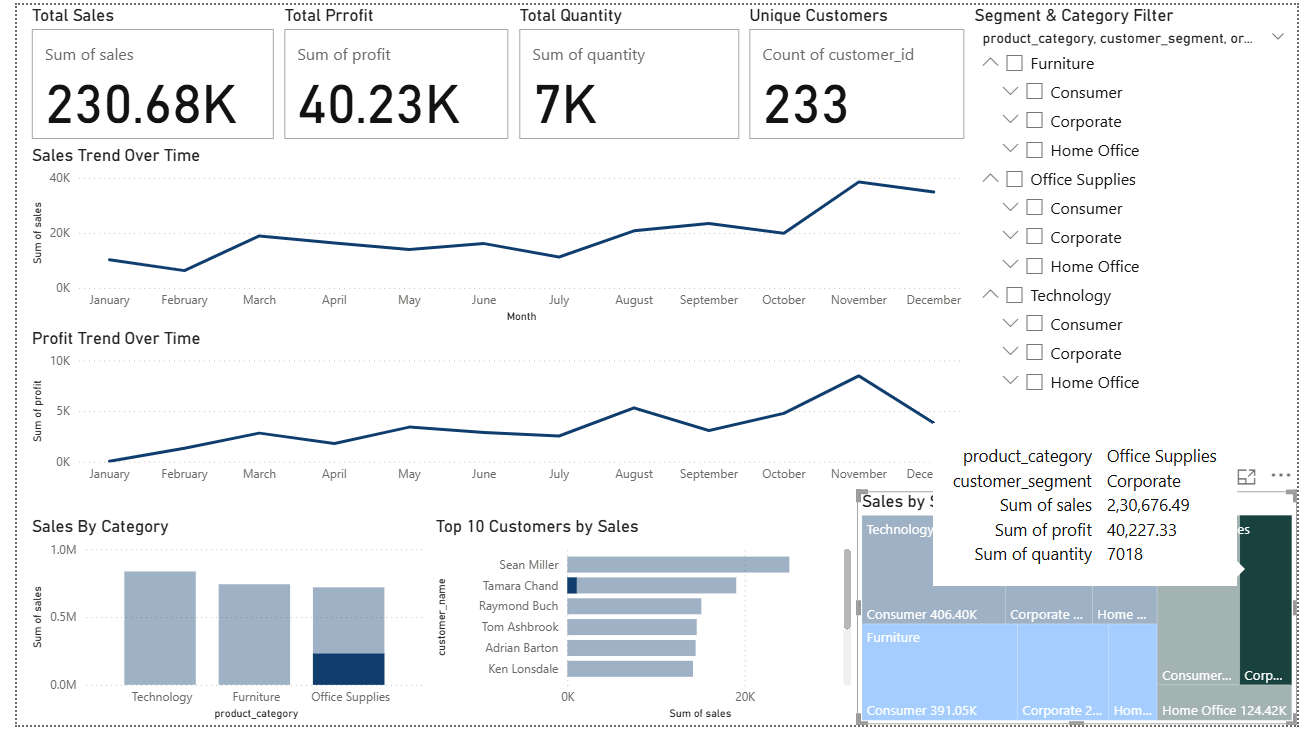

The page's visual inventory and layout, read from the dashboard file:
{"tool":"powerbi","page":{"name":"Page 1","canvas":[1280,720],"ordinal":0},"visuals":[{"type":"cardVisual","title":"Total Sales","fields":{"Data":["Sum(public vw_sales_analysis.sales)"]},"box":[10,0,252.9,140],"z":0},{"type":"cardVisual","title":"Total Prrofit","fields":{"Data":["Sum(public vw_sales_analysis.profit)"]},"box":[262.9,0,234.3,140],"z":1000},{"type":"cardVisual","title":"Total Quantity","fields":{"Data":["Sum(public vw_sales_analysis.quantity)"]},"box":[497.1,0,230,140],"z":2000},{"type":"cardVisual","title":"Unique Customers","fields":{"Data":["Count(public vw_sales_analysis.customer_id)"]},"box":[727.1,0,225.7,140],"z":3000},{"type":"lineChart","title":"Sales Trend Over Time","fields":{"Y":["Sum(public vw_sales_analysis.sales)"],"Category":["public vw_sales_analysis.order_date.Variation.Date Hierarchy.Year","public vw_sales_analysis.order_date.Variation.Date Hierarchy.Quarter","public vw_sales_analysis.order_date.Variation.Date Hierarchy.Month","public vw_sales_analysis.order_date.Variation.Date Hierarchy.Day"]},"box":[10,140,942.9,182.9],"z":4000},{"type":"lineChart","title":"Profit Trend Over Time ","fields":{"Category":["public vw_sales_analysis.order_date.Variation.Date Hierarchy.Year","public vw_sales_analysis.order_date.Variation.Date Hierarchy.Quarter","public vw_sales_analysis.order_date.Variation.Date Hierarchy.Month","public vw_sales_analysis.order_date.Variation.Date Hierarchy.Day"],"Y":["Sum(public vw_sales_analysis.profit)"]},"box":[10,322.9,942.9,164.3],"z":5000},{"type":"clusteredColumnChart","title":"Sales By Category","fields":{"Y":["Sum(public vw_sales_analysis.sales)"],"Category":["public vw_sales_analysis.product_category"]},"box":[10,511.4,404.3,208.6],"z":6000},{"type":"barChart","title":"Top 10 Customers by Sales","fields":{"Category":["public vw_sales_analysis.customer_name"],"Y":["Sum(public vw_sales_analysis.sales)"]},"box":[414.3,511.4,425.7,208.6],"z":7000},{"type":"slicer","title":"Segment & Category Filter","fields":{"Values":["public vw_sales_analysis.product_category","public vw_sales_analysis.customer_segment","public vw_sales_analysis.order_quarter","public vw_sales_analysis.order_year"]},"box":[952.5,0,327.5,486.2],"z":8000},{"type":"treemap","title":"Sales by Segment and Category","fields":{"Group":["public vw_sales_analysis.product_category"],"Values":["Sum(public vw_sales_analysis.sales)"],"Details":["public vw_sales_analysis.customer_segment"]},"box":[840,485.7,440,234.3],"z":9000}]}

Visuals, with their boxes in screenshot pixels (x1, y1, x2, y2), scaled from the page's 1280x720 canvas onto the 1307x732 screenshot:
"Total Sales" cardVisual: {"x1": 10, "y1": 0, "x2": 268, "y2": 142}
"Total Prrofit" cardVisual: {"x1": 268, "y1": 0, "x2": 508, "y2": 142}
"Total Quantity" cardVisual: {"x1": 508, "y1": 0, "x2": 742, "y2": 142}
"Unique Customers" cardVisual: {"x1": 742, "y1": 0, "x2": 973, "y2": 142}
"Sales Trend Over Time" lineChart: {"x1": 10, "y1": 142, "x2": 973, "y2": 328}
"Profit Trend Over Time " lineChart: {"x1": 10, "y1": 328, "x2": 973, "y2": 495}
"Sales By Category" clusteredColumnChart: {"x1": 10, "y1": 520, "x2": 423, "y2": 731}
"Top 10 Customers by Sales" barChart: {"x1": 423, "y1": 520, "x2": 858, "y2": 731}
"Segment & Category Filter" slicer: {"x1": 973, "y1": 0, "x2": 1306, "y2": 494}
"Sales by Segment and Category" treemap: {"x1": 858, "y1": 494, "x2": 1306, "y2": 731}
